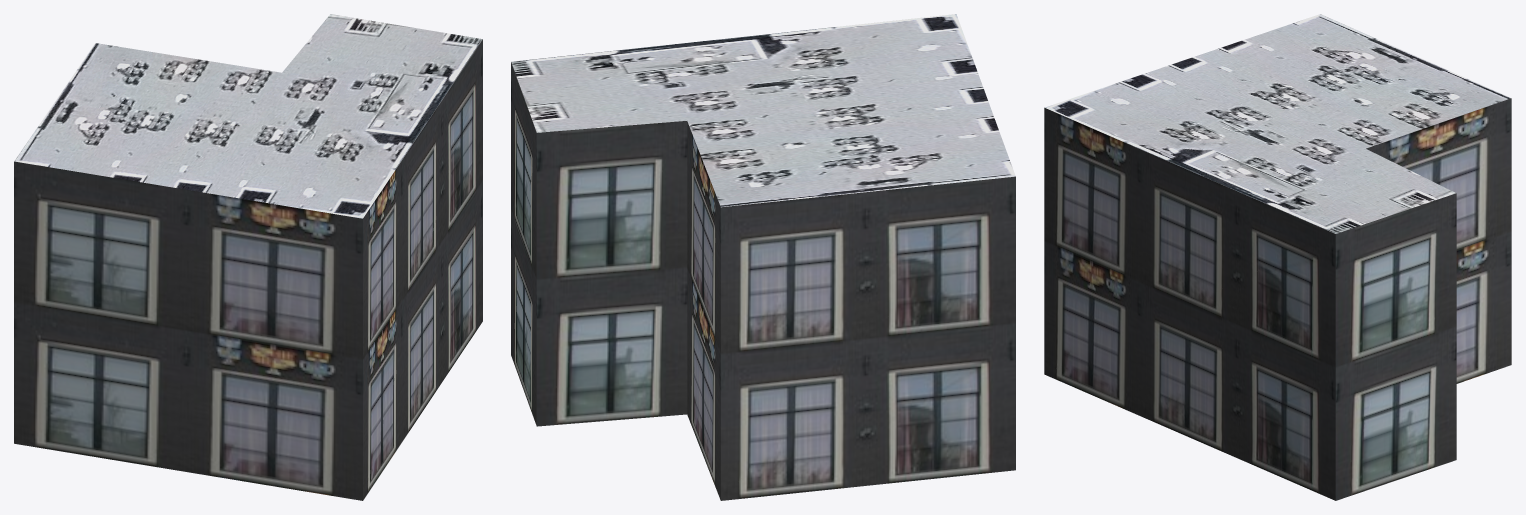
Rendered from ResTex__1278.fbx.
The picture shows the model from 3 angles, left to right: view 1: azimuth 30°, elevation 25°; view 2: azimuth 150°, elevation 25°; view 3: azimuth 270°, elevation 25°; orthographic projection. The views are drawn at different scales.
Visible parts, largest first — view 1: CityEngineMaterial_22_m, CityEngineMaterial_4_m; view 2: CityEngineMaterial_22_m, CityEngineMaterial_4_m; view 3: CityEngineMaterial_22_m, CityEngineMaterial_4_m.
Part boxes in pixels (box(x1,y1,x2,y2)): CityEngineMaterial_22_m: box(14, 39, 482, 500); CityEngineMaterial_4_m: box(14, 14, 482, 218); CityEngineMaterial_22_m: box(511, 62, 1015, 500); CityEngineMaterial_4_m: box(511, 14, 1015, 207); CityEngineMaterial_22_m: box(1044, 98, 1511, 500); CityEngineMaterial_4_m: box(1045, 14, 1510, 233).
Bounding box in the file's own units: 10.61 × 6 × 9.52.
Materials: 2 (2 with a texture image).
